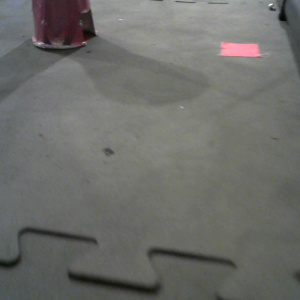right: (31, 1, 98, 53)
